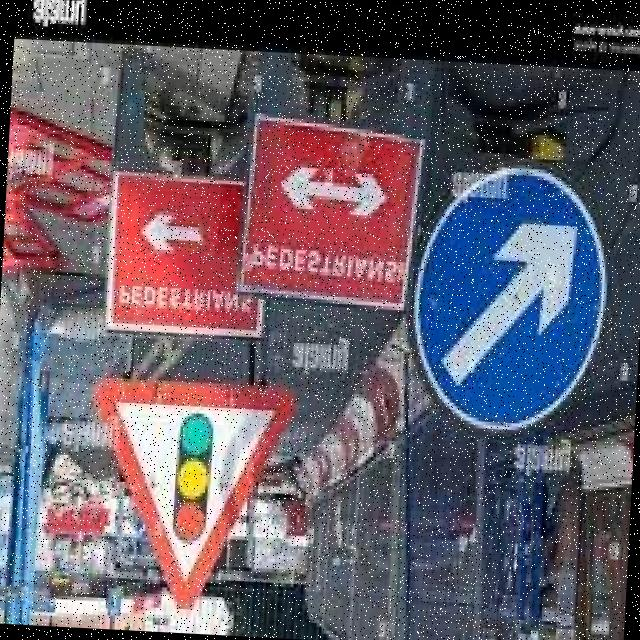compulsory_keep_right: (406, 154, 617, 451)
